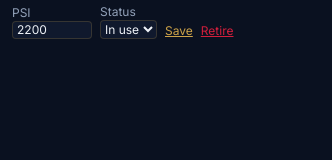
Scenario: TankControls › shows an error and re-enables Save when the request fails
Click the button "Save" at coordinates (179, 31), box [165,23,193,39]
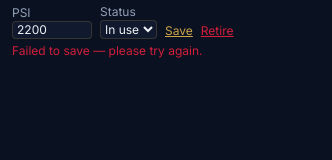
Now the text "Failed to save — please try again." is shown, box [12,43,202,58]
